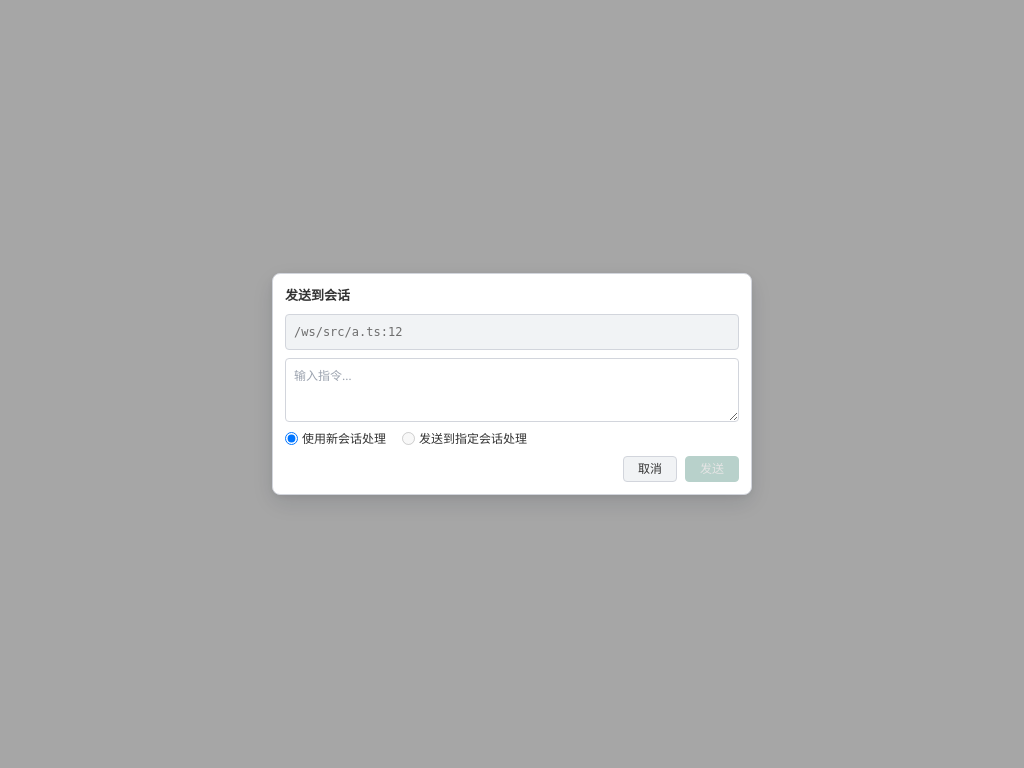
SendToConversationDialog › 选「指定会话」展开选择器
What coordinates should you click on to do the following:
click the radio button labelled "发送到指定会话处理"
I would click on:
 (408, 439)
Its box is [402,432,415,445].
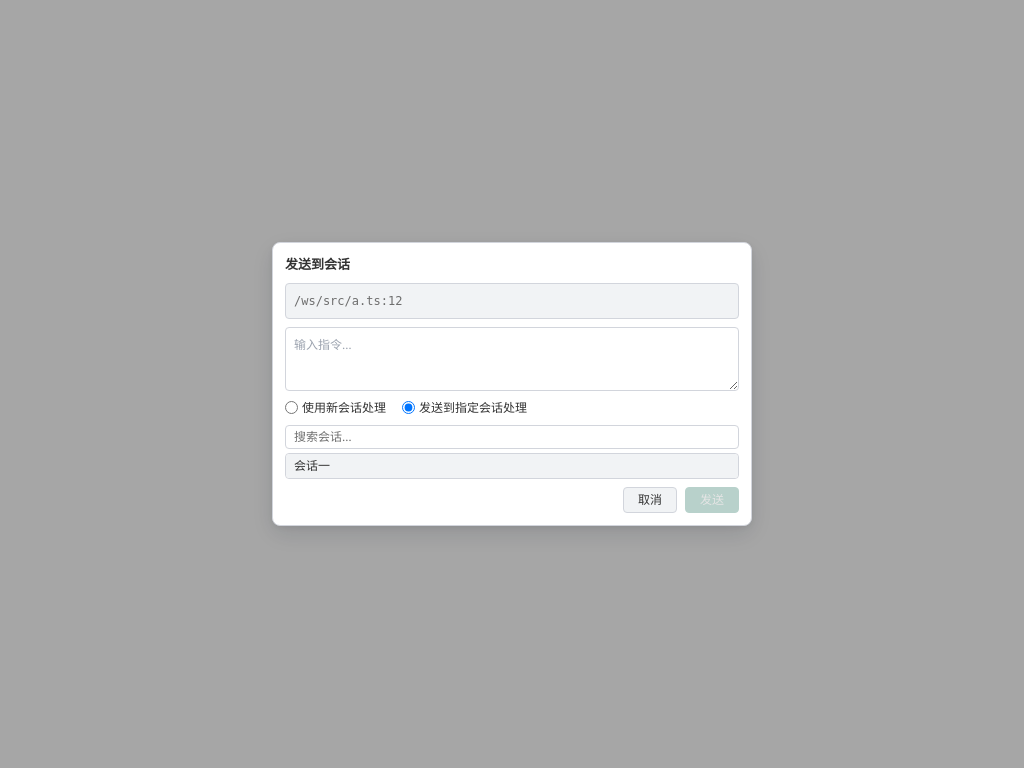
Check: the element with test id "pm-session-picker" is shown, box [285,425,739,479]
